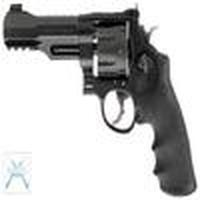gun: (3, 5, 193, 182)
